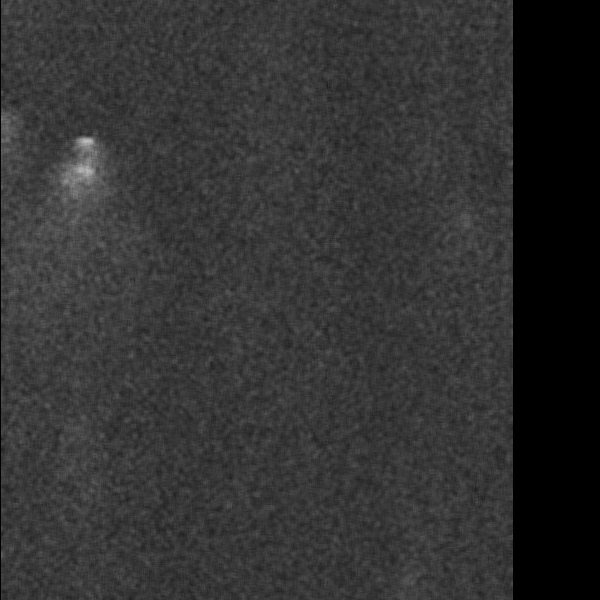spark: (65, 133, 108, 173), (6, 233, 59, 253)
